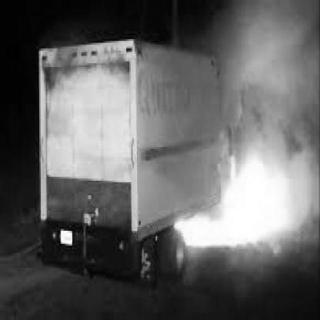Fire: (168, 144, 294, 254)
